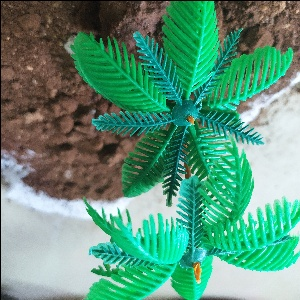plant: (67, 8, 283, 293)
